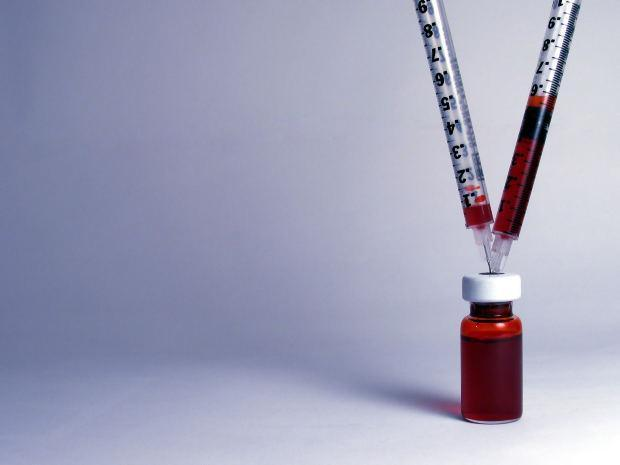Fire: (494, 96, 558, 239), (462, 302, 524, 424), (464, 204, 494, 226)
